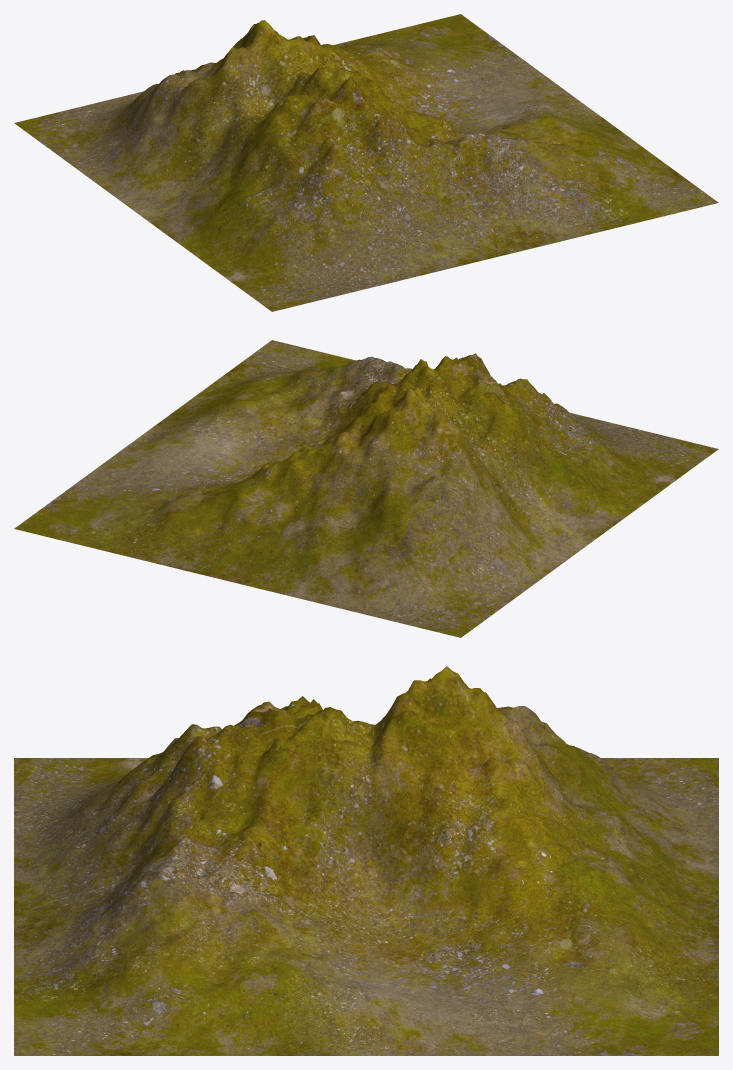
File: Mountain2.fbx
3 renders of one model, top to bottom at view 1: azimuth 30°, elevation 25°; view 2: azimuth 150°, elevation 25°; view 3: azimuth 270°, elevation 25°, orthographic. The views are drawn at different scales.
Visible parts, largest first — view 1: Landscape_Material.001_0; view 2: Landscape_Material.001_0; view 3: Landscape_Material.001_0.
Part boxes in pixels (x1,y1,x2,y2): Landscape_Material.001_0: [14, 14, 718, 311]; Landscape_Material.001_0: [14, 340, 718, 637]; Landscape_Material.001_0: [14, 666, 718, 1055].
Size of the model in its own units: 200 by 59.6 by 200.
